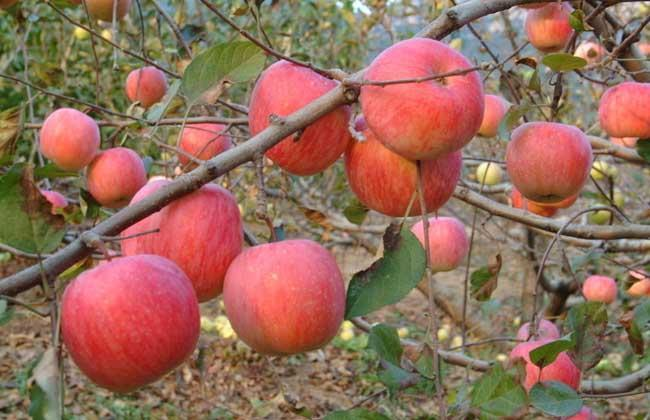apple: (57, 248, 206, 394), (362, 36, 485, 155), (243, 40, 352, 174), (227, 240, 351, 352), (122, 172, 232, 297), (348, 129, 463, 217), (506, 120, 594, 205), (39, 106, 101, 170), (411, 211, 470, 274), (599, 77, 650, 146), (87, 148, 149, 204), (525, 1, 576, 53), (125, 62, 169, 106)
